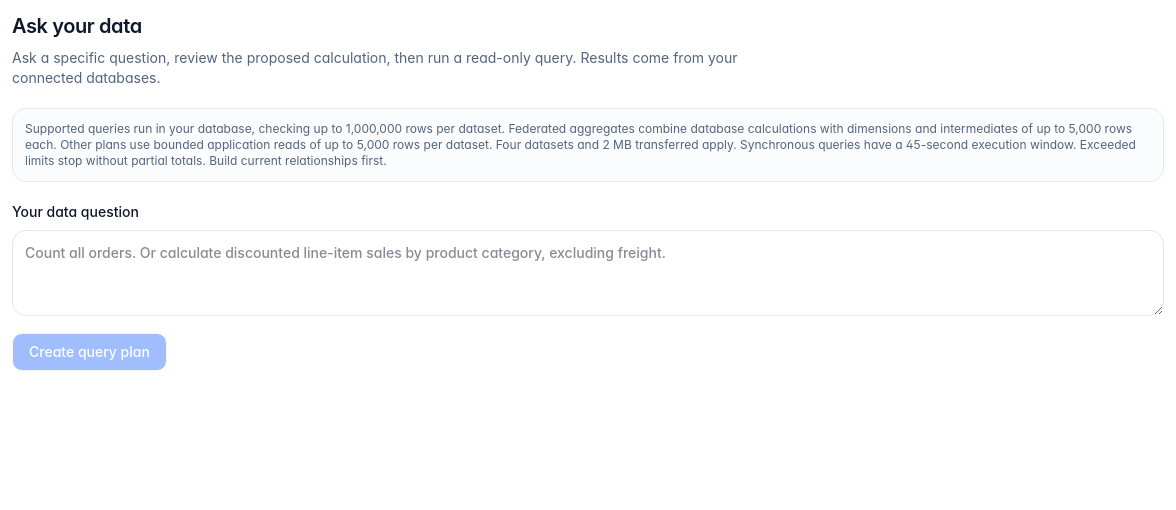
Test case: shows clarification without execution
Replace the text in the text box labelled "Your data question" with "Revenue" at (588, 273), box [12, 230, 1164, 316]
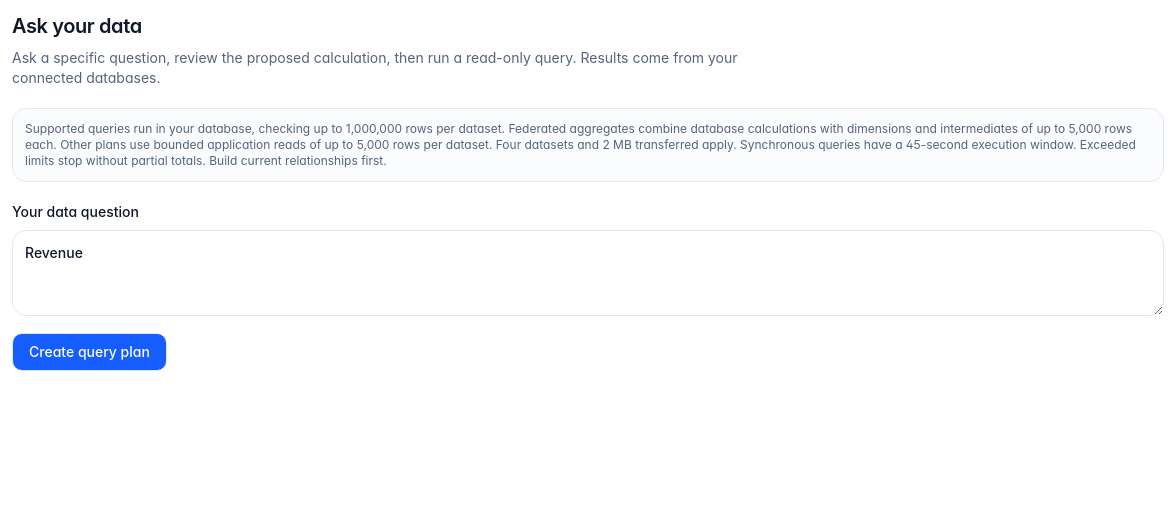
Check: the button "Create query plan" is enabled
Click the button "Create query plan" at (89, 352), box [12, 333, 167, 371]
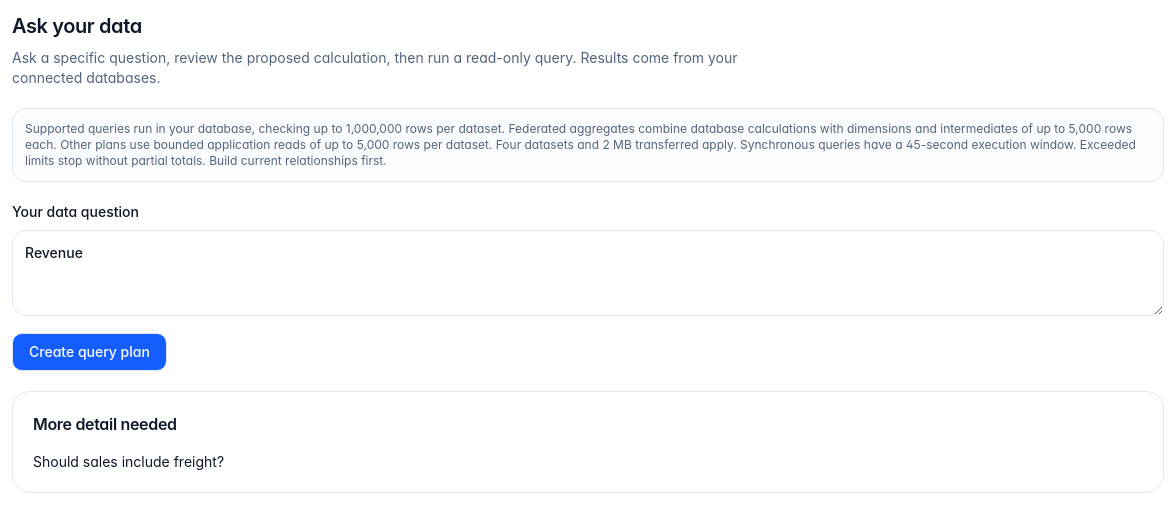
Check: the text "Should sales include freight?" is shown, box [33, 453, 224, 470]
